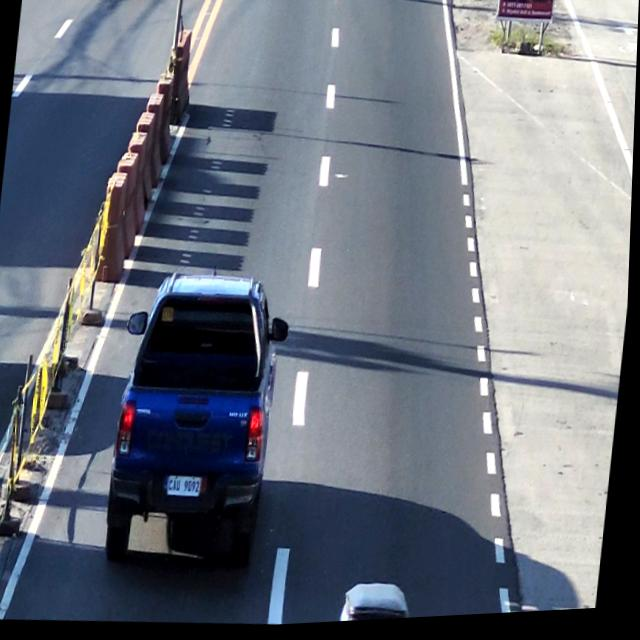Car: (109, 264, 288, 569)
License-Plate: (166, 475, 205, 505)
Tricycle: (337, 574, 414, 625)
